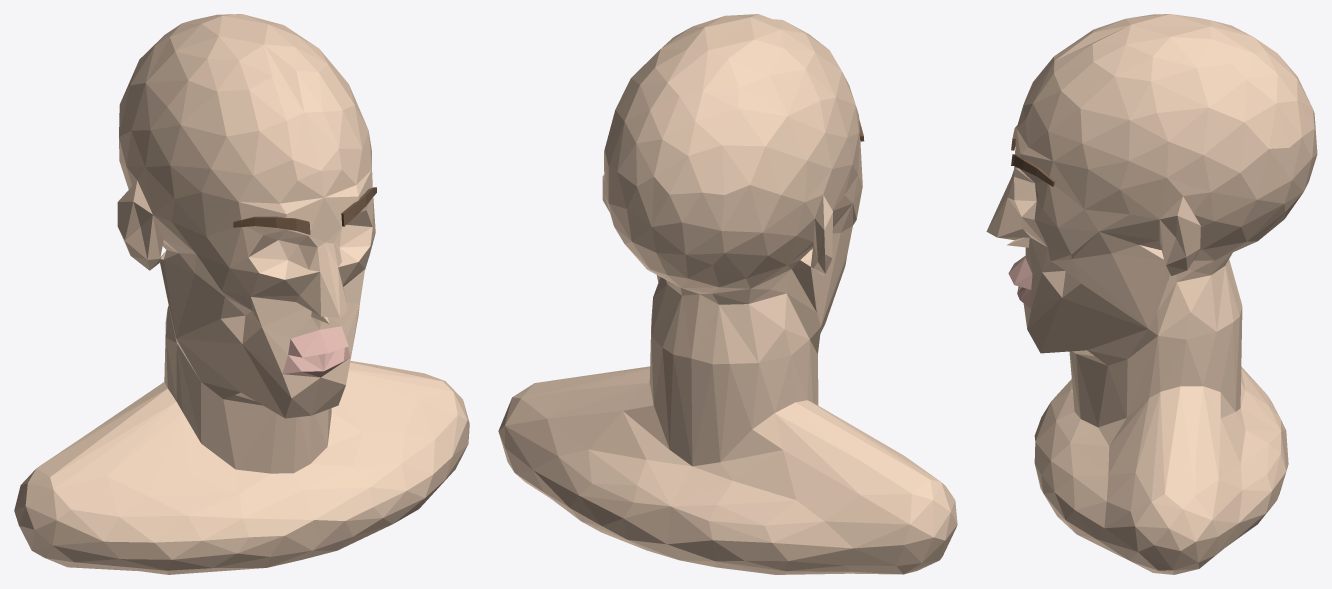
File: collapse.glb
The picture shows the model from 3 angles, left to right: view 1: azimuth 30°, elevation 25°; view 2: azimuth 150°, elevation 25°; view 3: azimuth 270°, elevation 25°; orthographic projection. The views are drawn at different scales.
Parts seen in each view (by area): view 1: Head_Main, Eyebrow_R; view 2: Head_Main; view 3: Head_Main, Eyebrow_L.
Part boxes in pixels (bbox=[...]): Head_Main: bbox=[14, 14, 469, 574]; Eyebrow_R: bbox=[233, 216, 310, 234]; Head_Main: bbox=[498, 14, 957, 574]; Head_Main: bbox=[986, 14, 1317, 574]; Eyebrow_L: bbox=[1011, 154, 1054, 186].
Bounding box in the file's own units: 0.3209 × 0.3406 × 0.2204.
